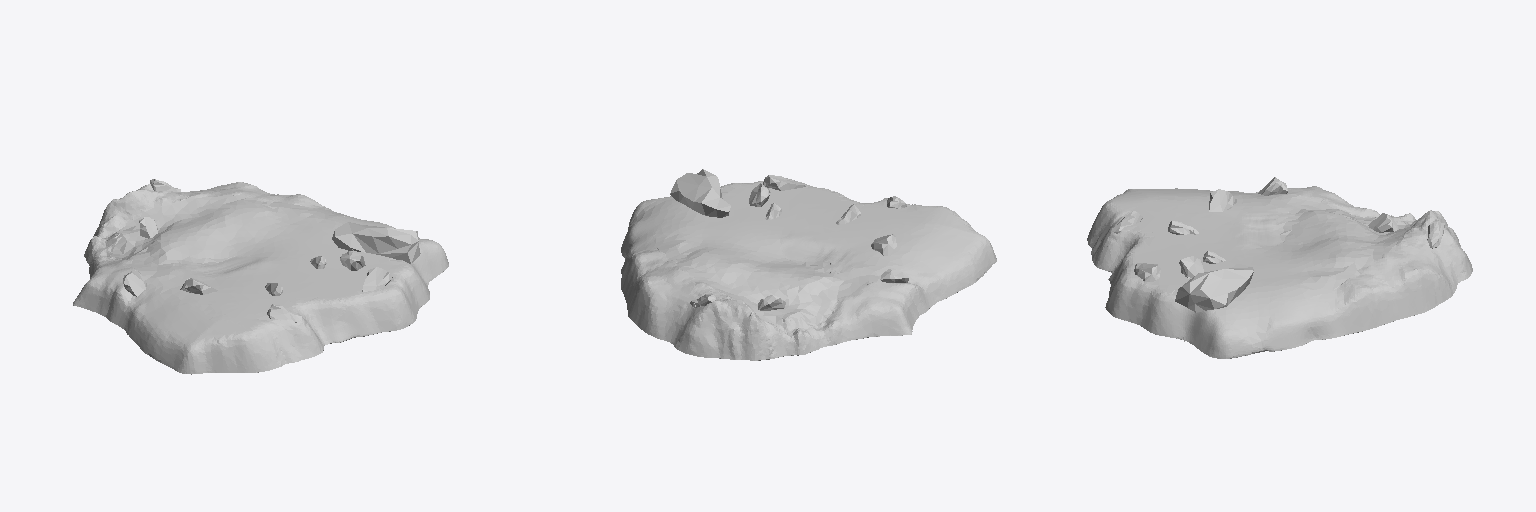
Rendered from Terreno+Piedras.obj.
The picture shows the model from 3 angles: view 1: azimuth 30°, elevation 25°; view 2: azimuth 150°, elevation 25°; view 3: azimuth 270°, elevation 25°; orthographic projection.
Parts seen in each view (by area): view 1: Main_Ground.001; view 2: Main_Ground.001; view 3: Main_Ground.001.
Boxes of the visible parts, x1=… form: Main_Ground.001: x1=73, y1=179, x2=448, y2=374; Main_Ground.001: x1=621, y1=169, x2=996, y2=360; Main_Ground.001: x1=1087, y1=177, x2=1472, y2=358.
Bounding box in the file's own units: 8.31 × 1.48 × 8.5.